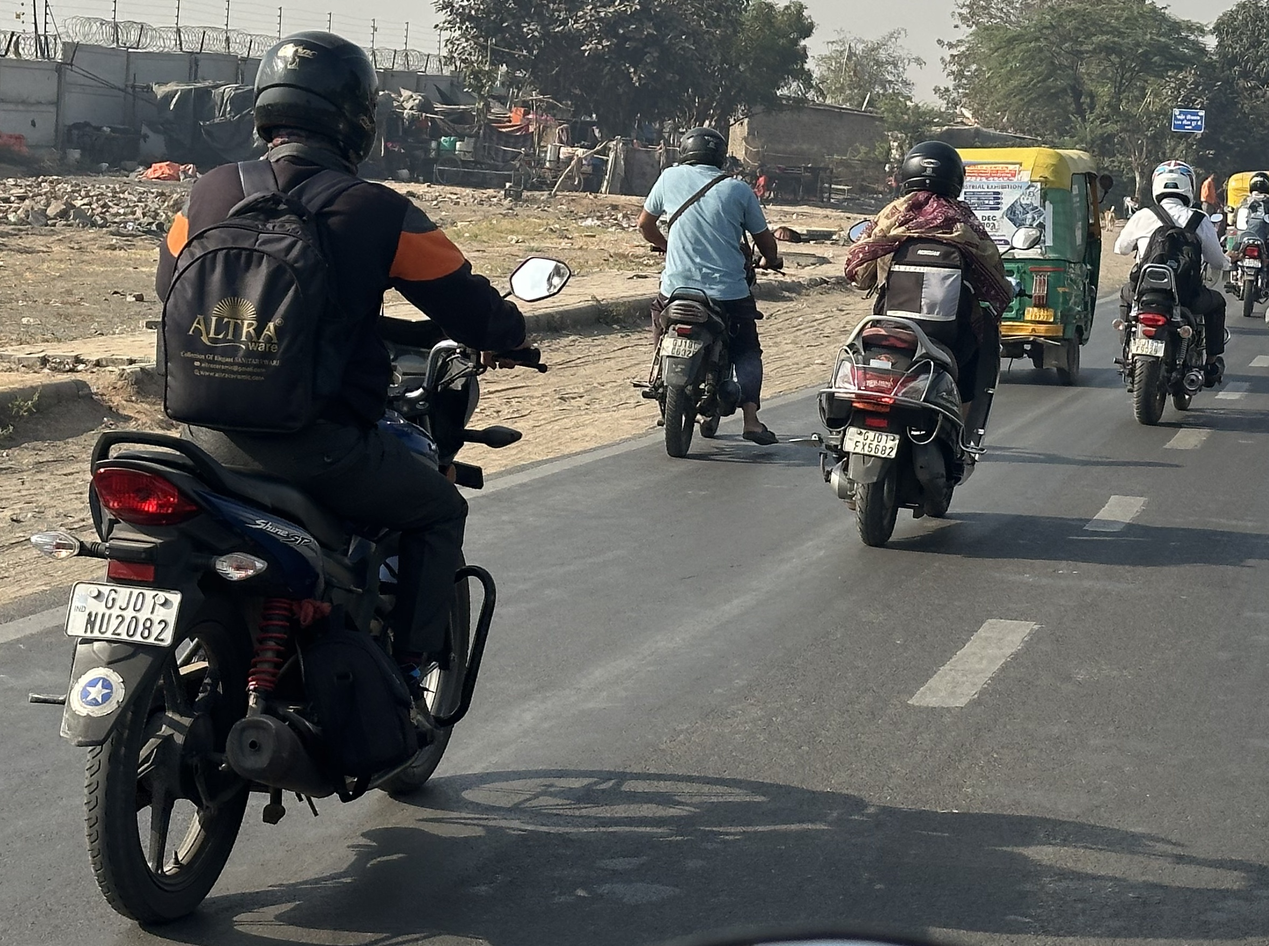BikeWithRider: (48, 26, 573, 932), (815, 140, 1023, 547), (625, 120, 781, 454), (1107, 151, 1235, 430), (1231, 170, 1269, 313)
Helmet: (245, 30, 383, 174), (890, 143, 973, 201), (672, 120, 727, 176), (1146, 159, 1201, 210), (1246, 171, 1269, 196)
